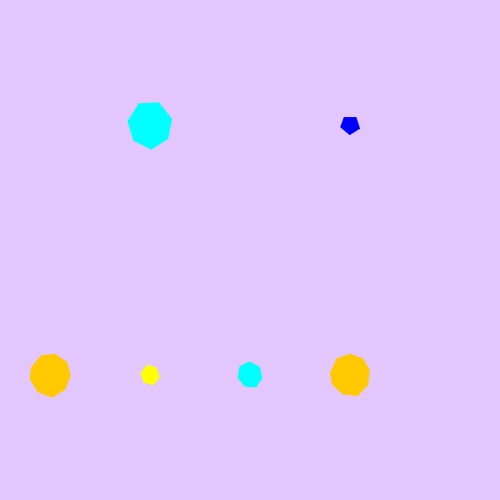heptagon: (123, 99, 177, 151), (233, 359, 267, 392)
hexagon: (135, 362, 165, 388)
nonagon: (25, 351, 76, 399), (325, 351, 375, 399)
pentagon: (336, 111, 364, 139)
